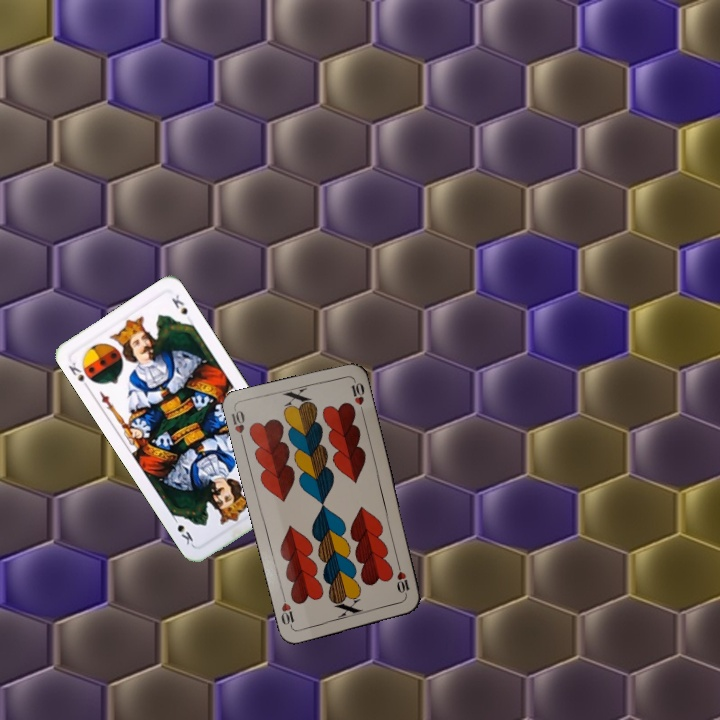H10: (227, 406, 247, 446), (393, 559, 412, 599)
SK: (64, 358, 93, 392)
